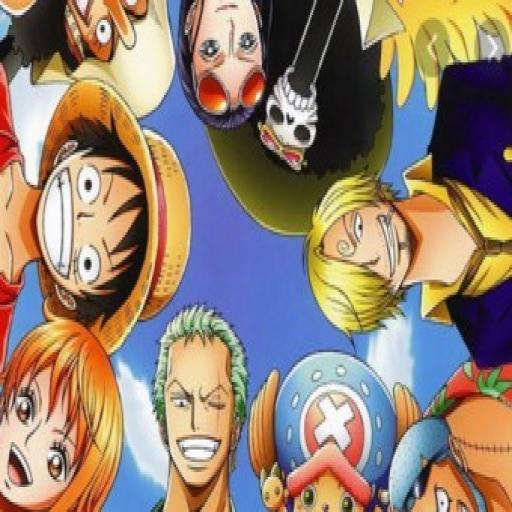Luffy: (0, 87, 202, 331)
Nami: (0, 317, 130, 512)
NicoRobin: (178, 0, 274, 145)
Usopp: (0, 0, 167, 103)
Zoro: (143, 294, 258, 512)
sanji: (297, 160, 425, 349)
